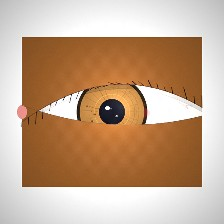hemorrhage_spot: (90, 84, 152, 134)
